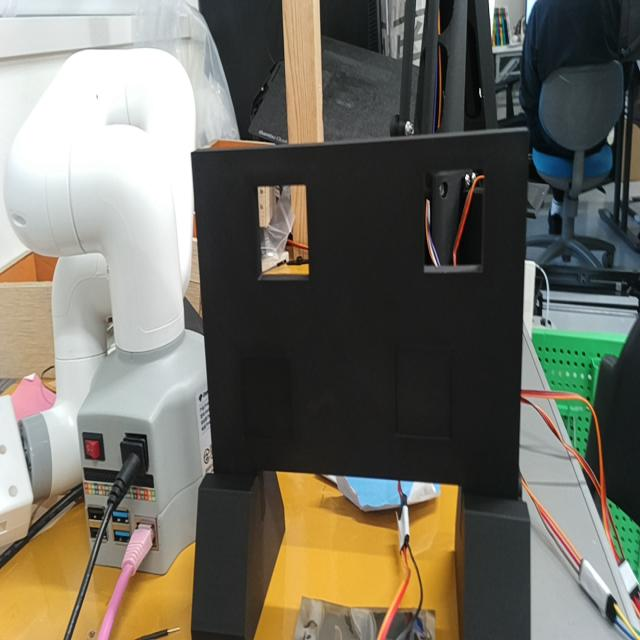Obstacle: (422, 171, 486, 273), (256, 185, 311, 281)
Wall: (192, 131, 526, 499)
